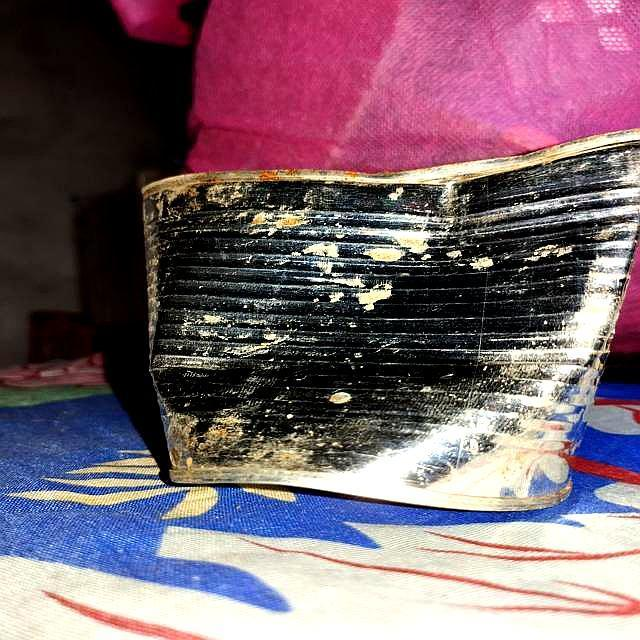Non-biodegradable: (139, 127, 639, 514)
